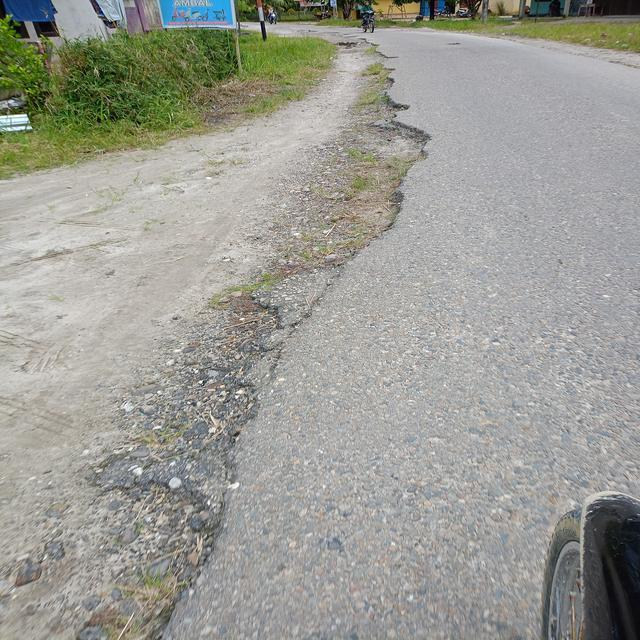Pinggir: (133, 45, 442, 640)
